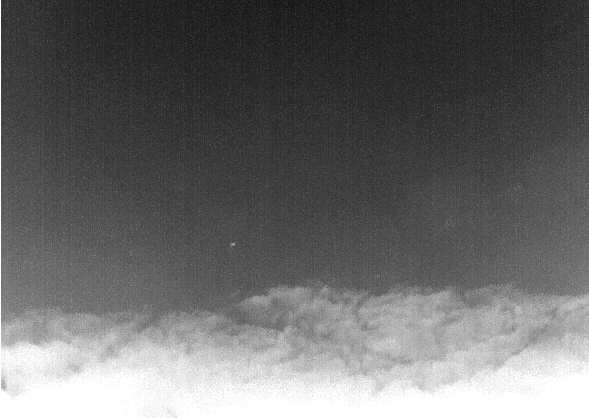dim target: (228, 240, 239, 249)
